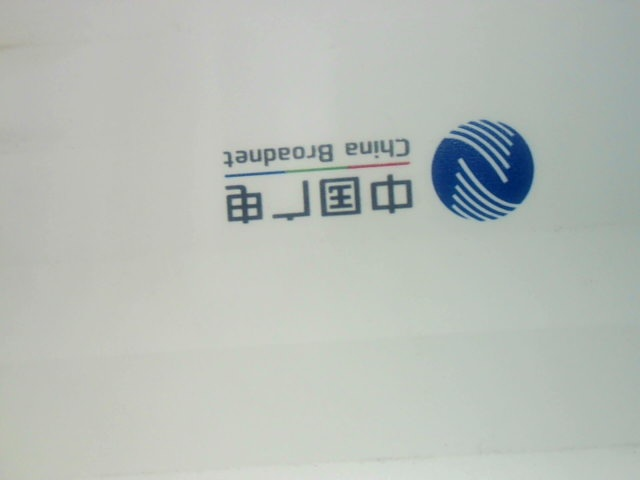AW_ChinaBroadNet: (201, 101, 556, 237)
